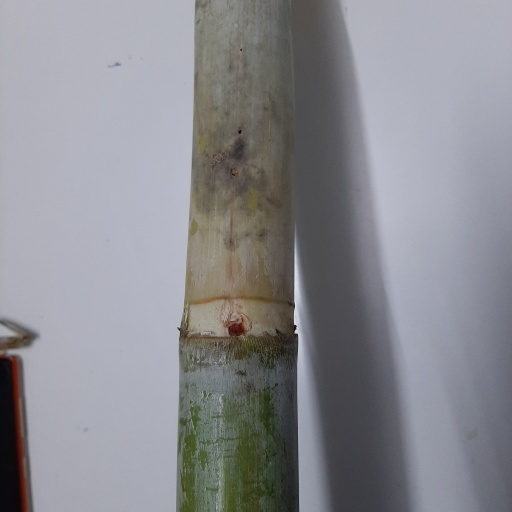Damage_Bud: (225, 316, 249, 339)
